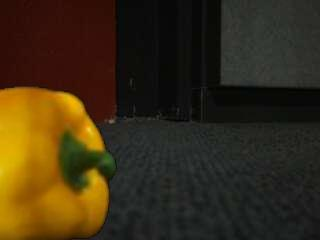Capsicum: (1, 86, 118, 240)
